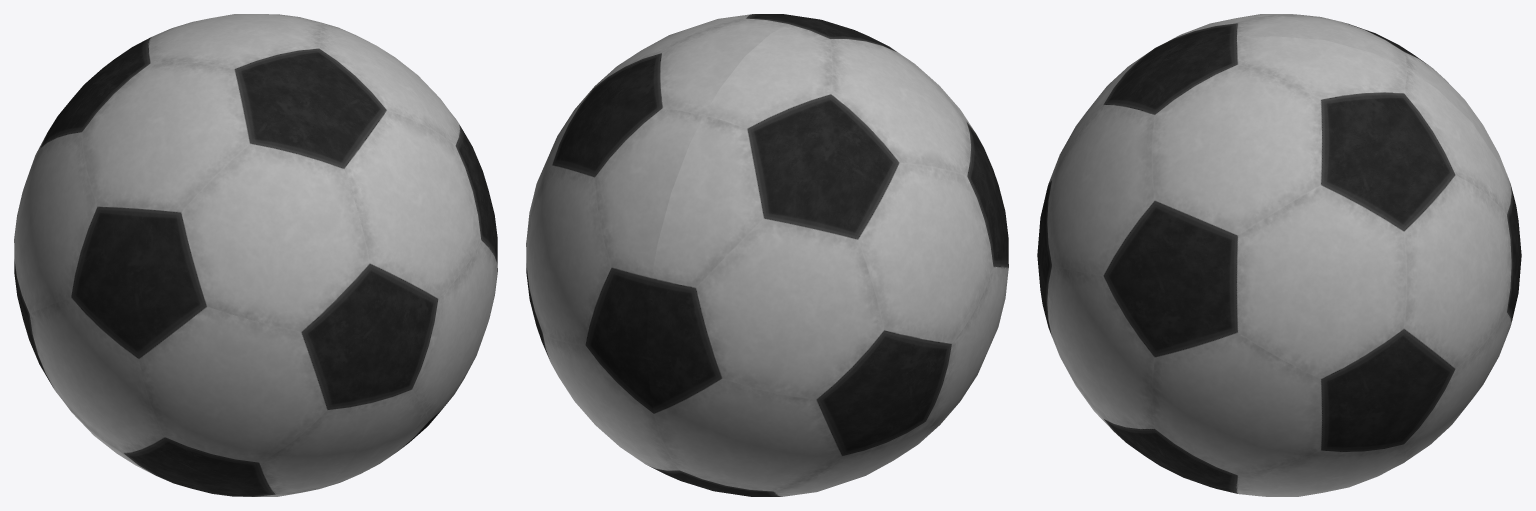
The model's file is SoccerA.glb.
3 renders of one model, left to right at view 1: azimuth 30°, elevation 25°; view 2: azimuth 150°, elevation 25°; view 3: azimuth 270°, elevation 25°, orthographic.
Parts seen in each view (by area): view 1: SoccerBall_R, SoccerBall_L; view 2: SoccerBall_R, SoccerBall_L; view 3: SoccerBall_L, SoccerBall_R.
Boxes of the visible parts, left/top/right/bottom form: SoccerBall_R: left=14, top=18, right=377, bottom=496; SoccerBall_L: left=209, top=14, right=497, bottom=488; SoccerBall_R: left=646, top=19, right=1008, bottom=496; SoccerBall_L: left=526, top=14, right=819, bottom=490; SoccerBall_L: left=1037, top=36, right=1521, bottom=496; SoccerBall_R: left=1037, top=14, right=1518, bottom=253.
Bounding box in the file's own units: 1.67 × 1.67 × 1.67.
Materials: 1 (1 with a texture image).
